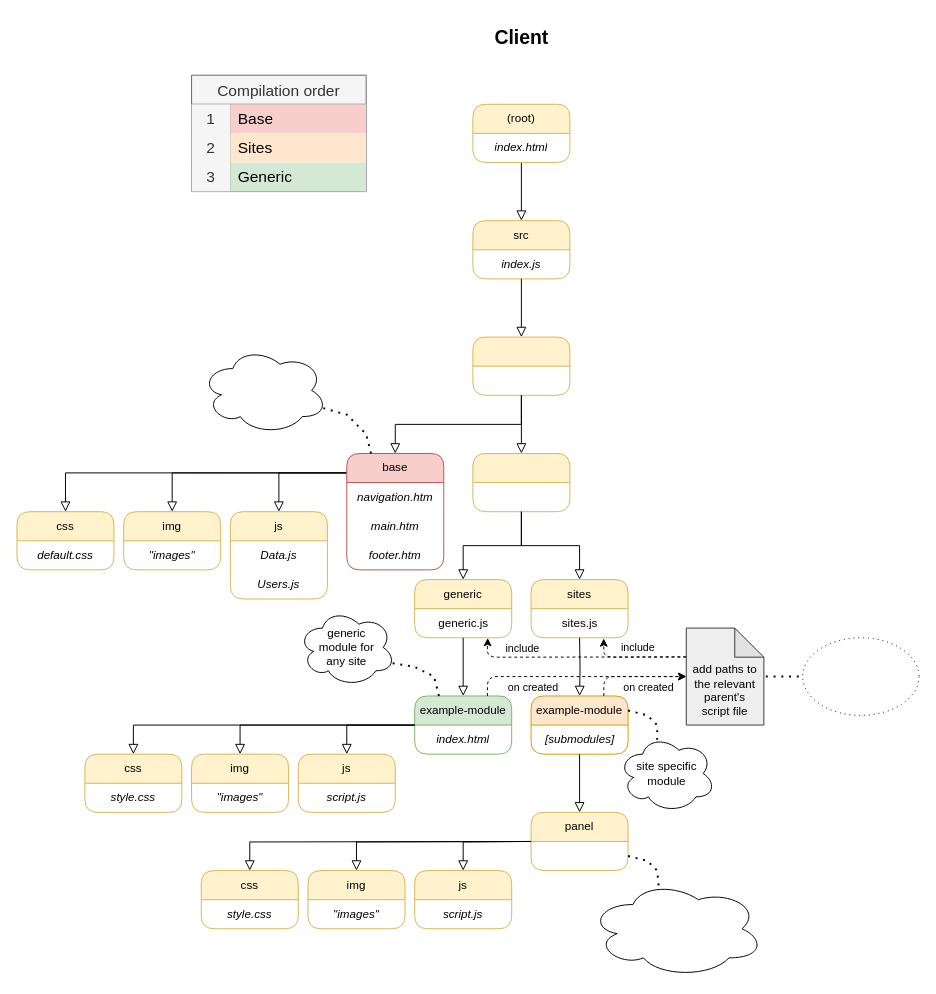
This 936x994 diagram has some shape labels left out. The shapes that lost their labels are listed below. From the top down, each one's centre as x and y in pixels, then its label:
(x=521, y=365): components
(x=263, y=390): you can safely attach a module to any base item
(x=521, y=482): modules
(x=860, y=676): Will eventually be automated
(x=676, y=928): same fuctionality as a generic module - only for sites specifically
